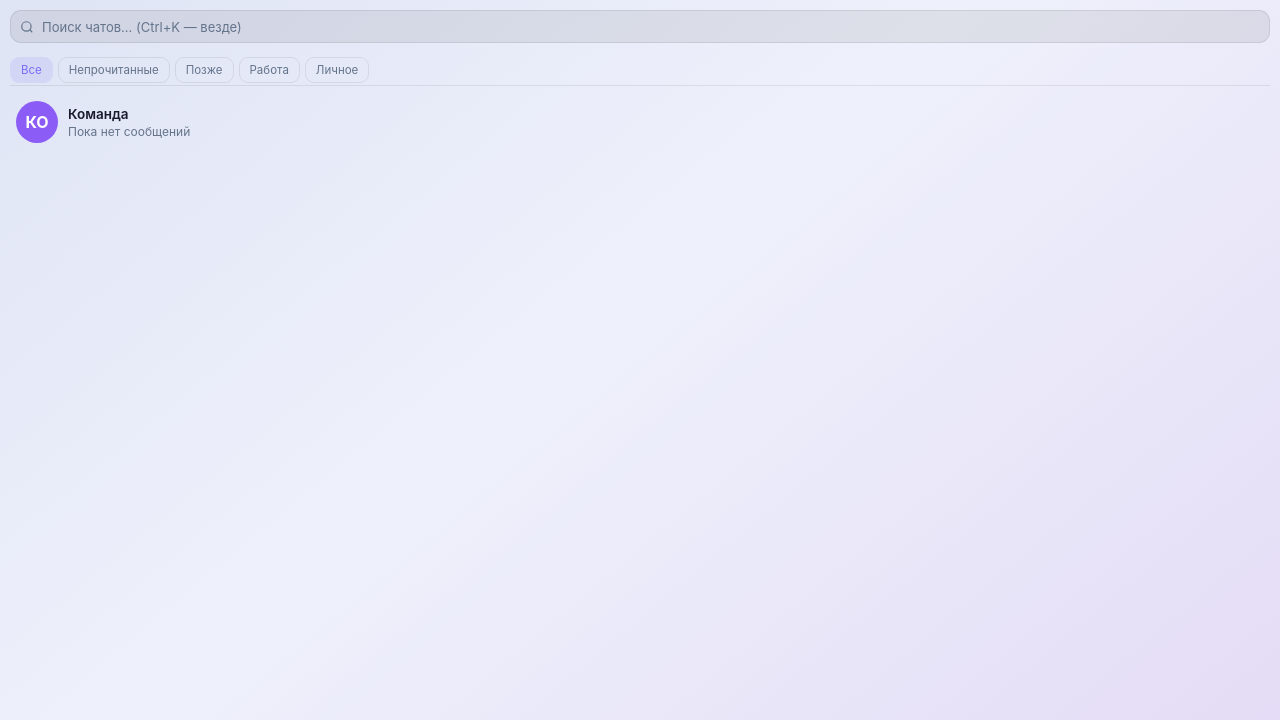
Test: the chat list context menu › explains that a group keeps what you wrote in it
Right-click the text "Команда" at (98, 114), box [68, 106, 128, 122]
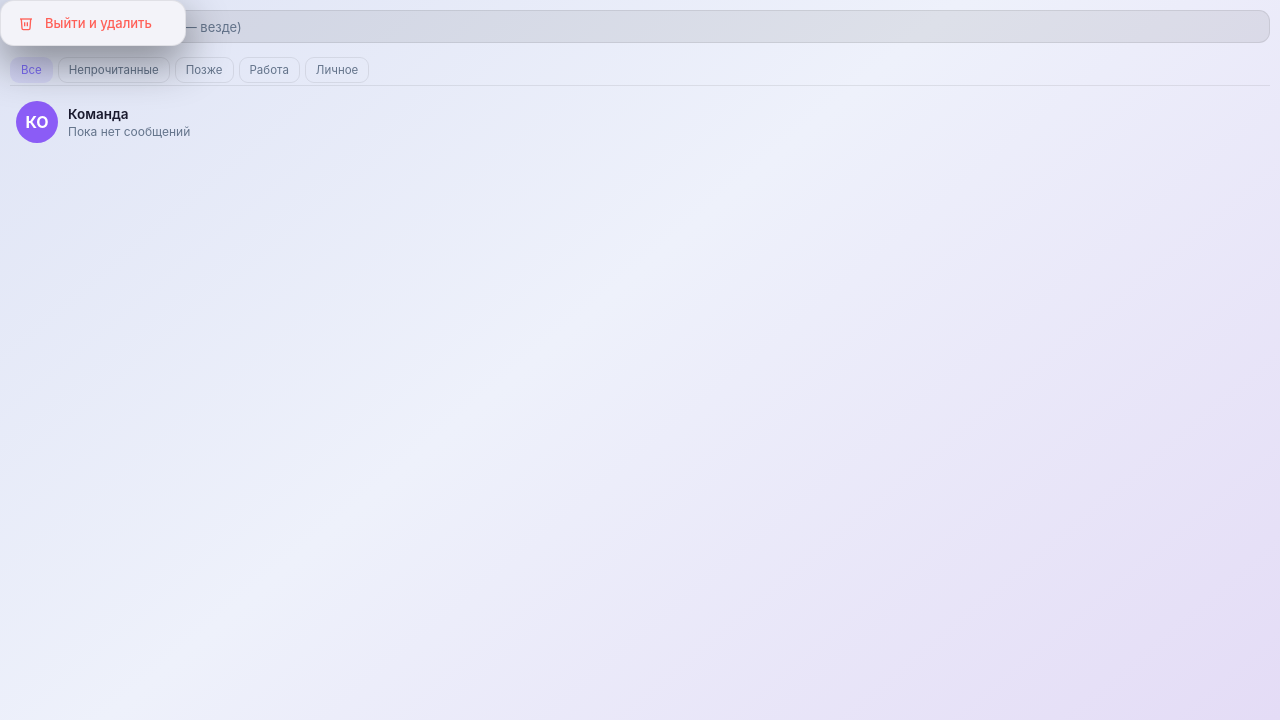
Click the text "Выйти и удалить" at (85, 23), box [18, 15, 152, 31]
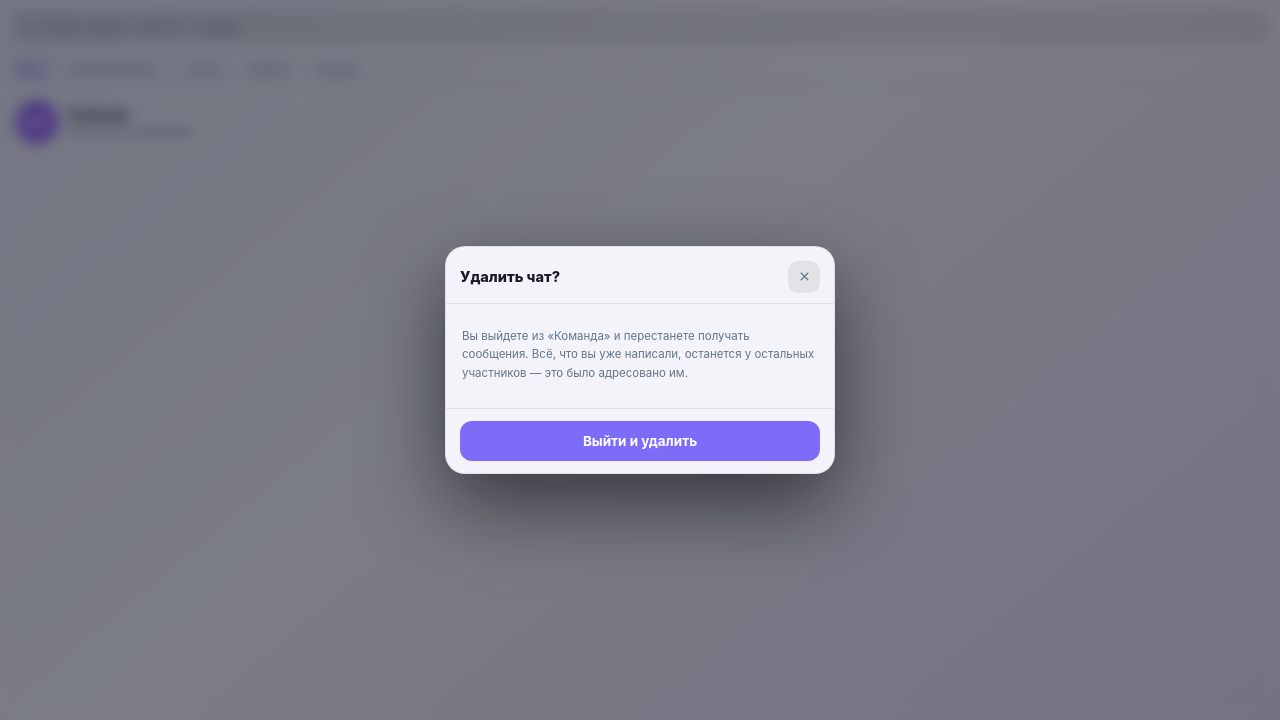
Check: the text "останется у остальных участников" is shown, box [462, 329, 814, 380]
